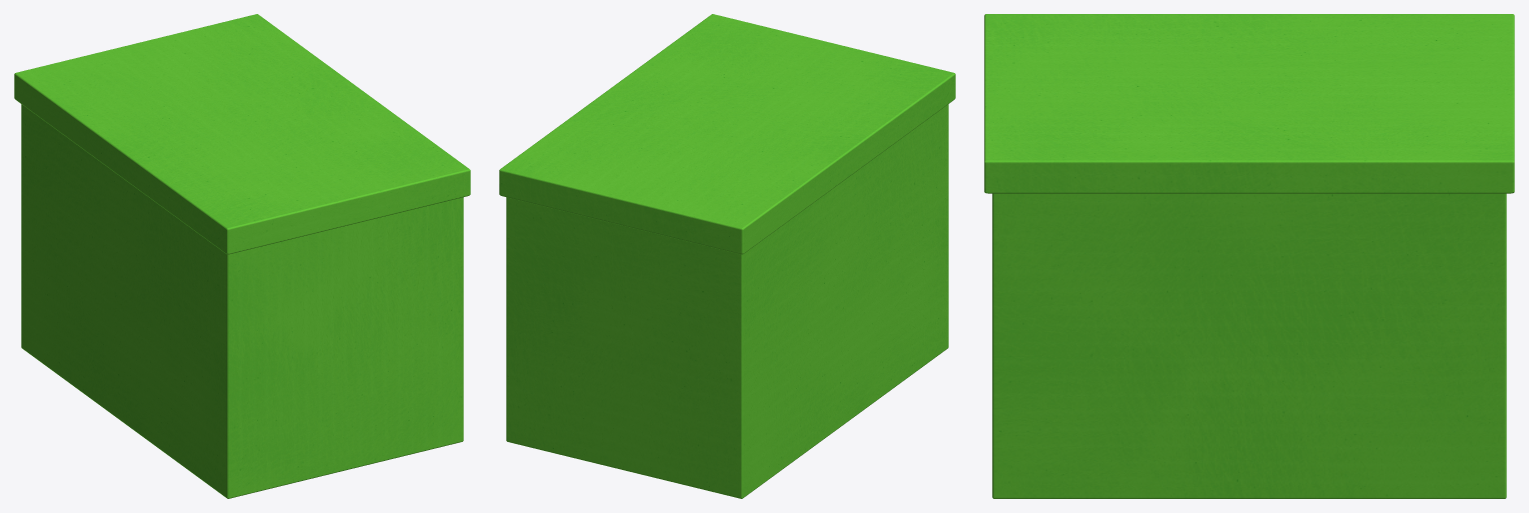
File: green_box.obj
3 renders of one model, left to right at view 1: azimuth 30°, elevation 25°; view 2: azimuth 150°, elevation 25°; view 3: azimuth 270°, elevation 25°, orthographic. The views are drawn at different scales.
Parts seen in each view (by area): view 1: o_Storagebox_Box_blue_0; view 2: o_Storagebox_Box_blue_0; view 3: o_Storagebox_Box_blue_0.
Boxes of the visible parts, x1,y1,x2,y2 form: o_Storagebox_Box_blue_0: (14,14,470,498); o_Storagebox_Box_blue_0: (499,14,955,498); o_Storagebox_Box_blue_0: (984,14,1514,498).
Size of the model in its own units: 25.73 by 27.61 by 38.96.
Materials: 1 (1 with a texture image).
